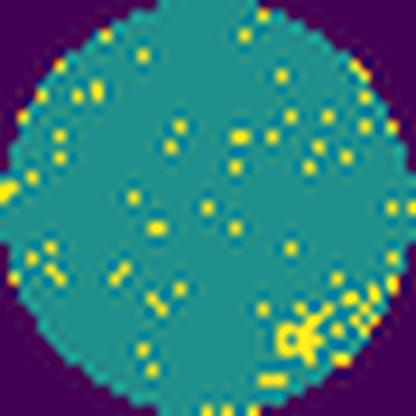Loc: (280, 299, 334, 369)
